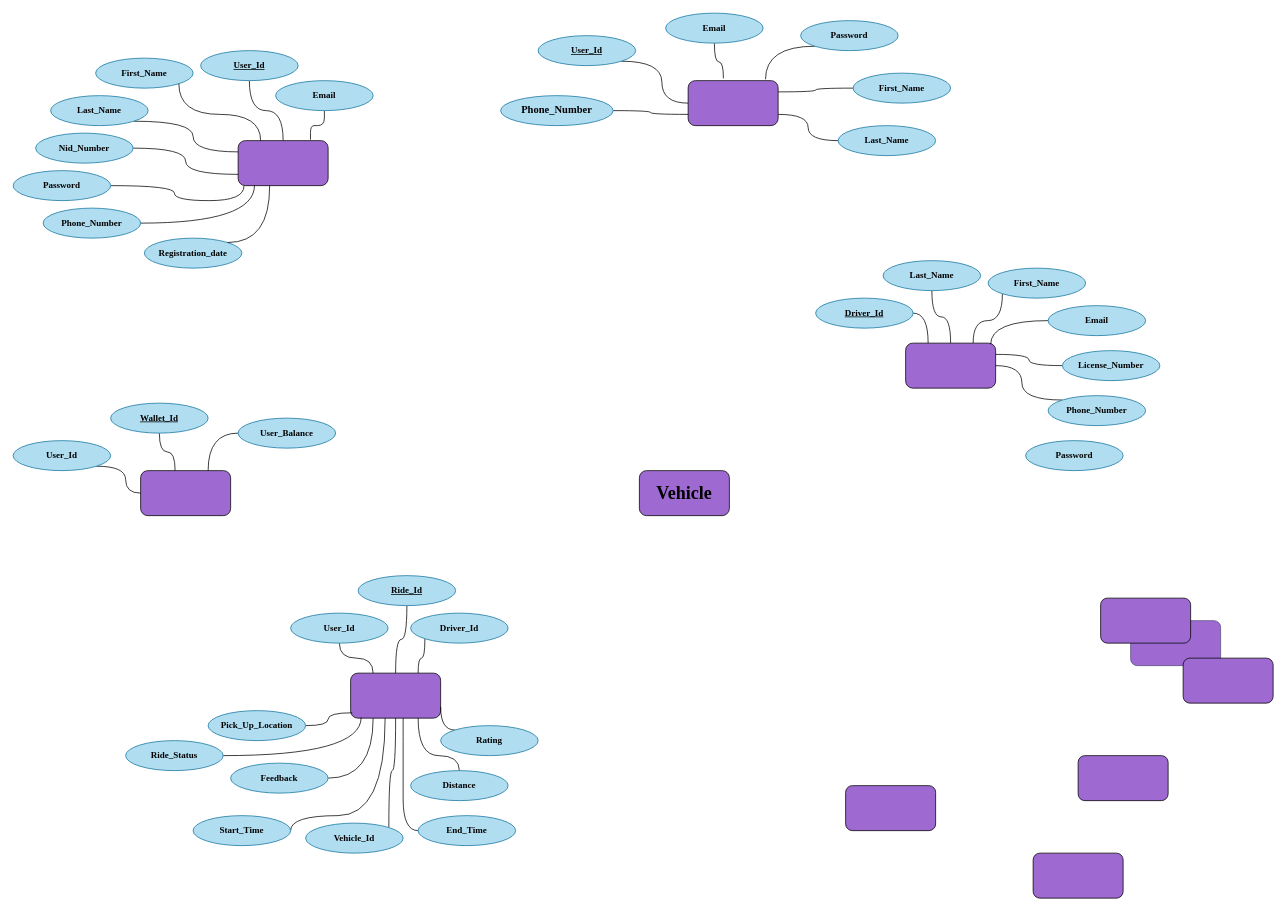
Some shapes in this 1286 by 911 pixel diagram are drawn without their labels. Each missing label, with the centre of its shape:
"Admin" belongs at (x=732, y=103).
"Ride" belongs at (x=395, y=695).
"Rider" belongs at (x=950, y=365).
"User" belongs at (x=282, y=163).
"Wallet" belongs at (x=185, y=493).
